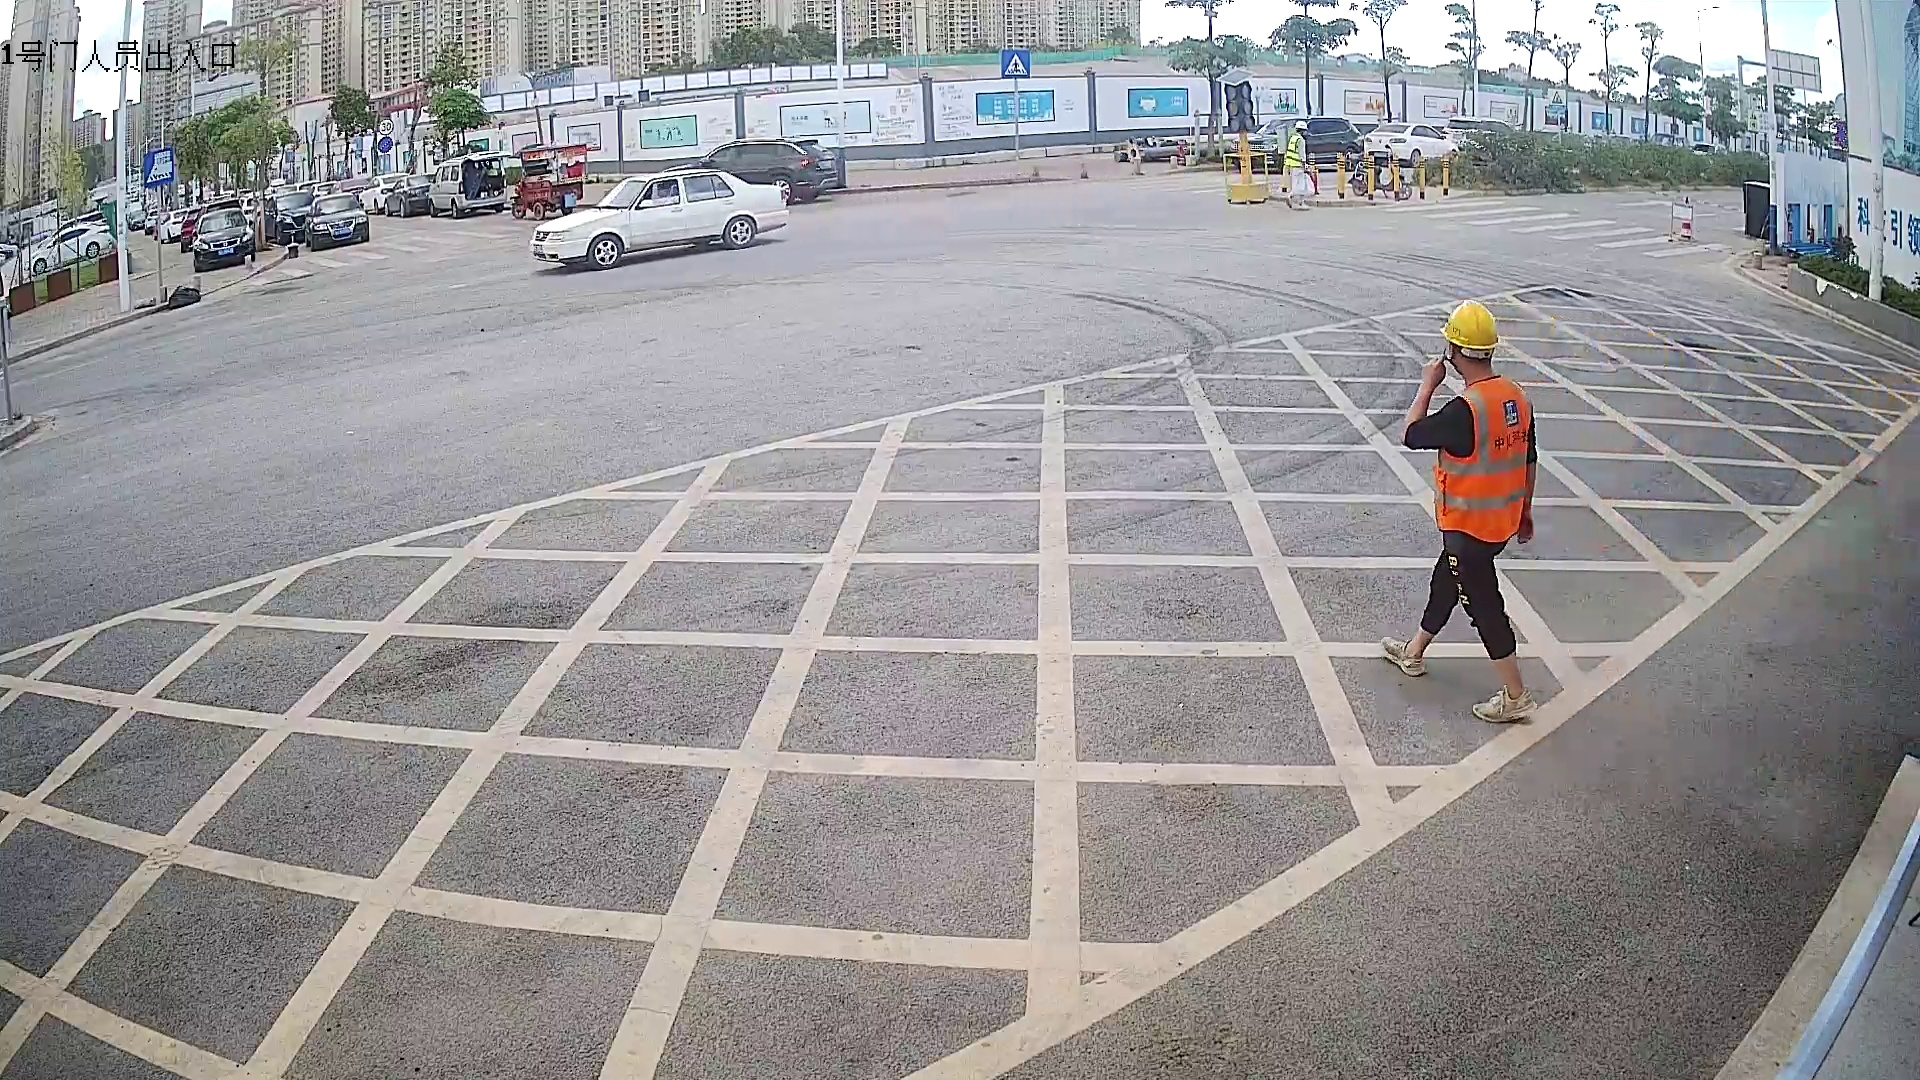person: (1375, 294, 1546, 731), (1282, 120, 1312, 211)
reflective_vest: (1431, 373, 1531, 544), (1283, 134, 1305, 167)
safety_helmet: (1442, 295, 1500, 376), (1295, 119, 1308, 136)
